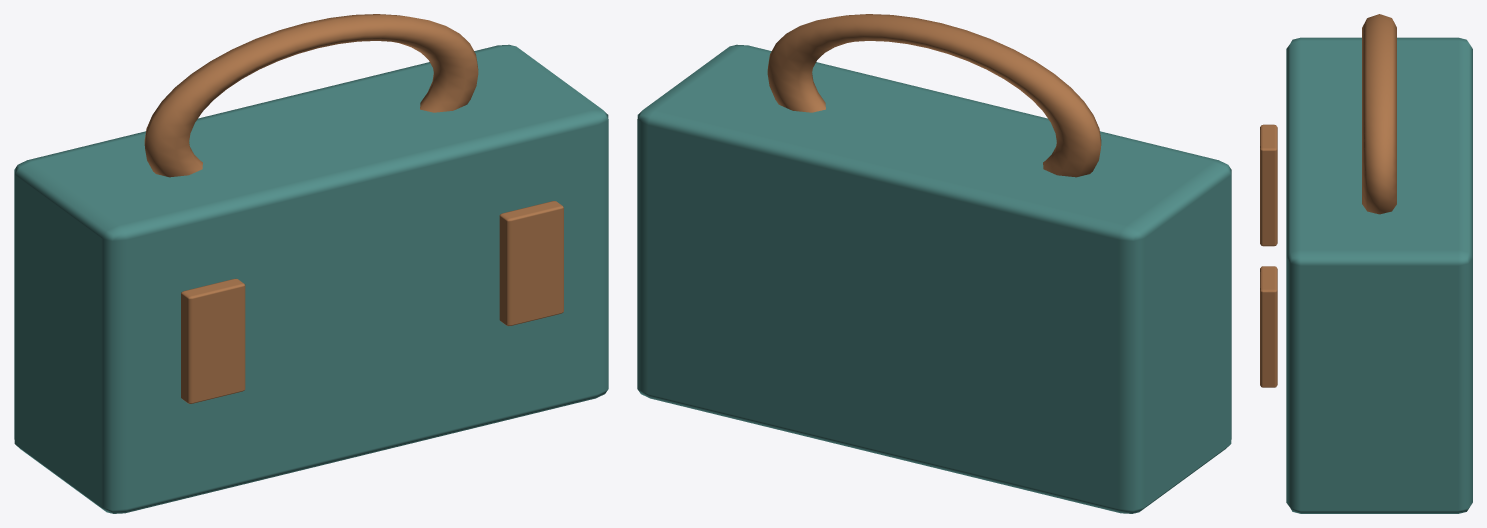
The model's file is wp-cartable.glb.
3 renders of one model, left to right at view 1: azimuth 30°, elevation 25°; view 2: azimuth 150°, elevation 25°; view 3: azimuth 270°, elevation 25°, orthographic. The views are drawn at different scales.
Parts seen in each view (by area): view 1: wp-cartable; view 2: wp-cartable; view 3: wp-cartable.
Boxes of the visible parts, x1,y1,x2,y2 form: wp-cartable: (14,14,608,513); wp-cartable: (637,14,1231,513); wp-cartable: (1260,14,1472,513).
Bounding box in the file's own units: 0.4 × 0.3 × 0.16.
